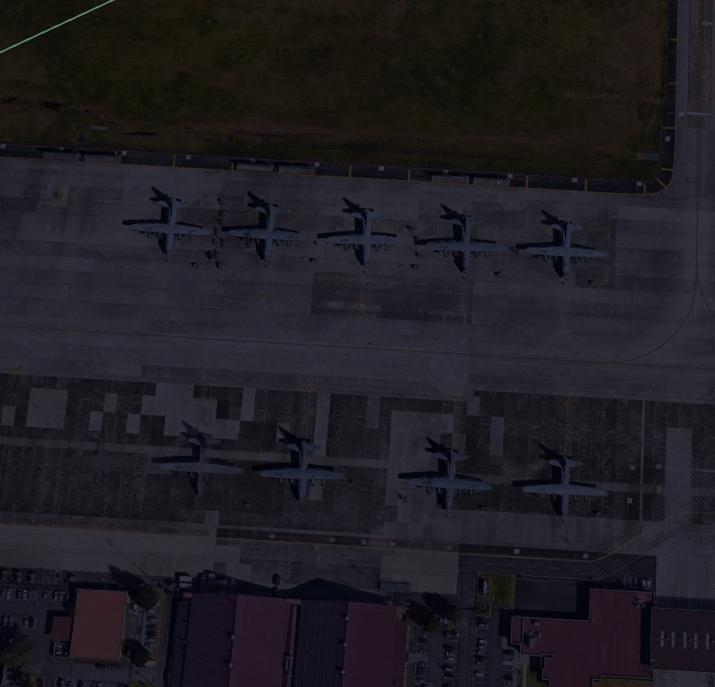A2: (518, 206, 614, 282), (398, 436, 493, 510), (514, 444, 609, 518), (123, 182, 212, 256), (256, 429, 346, 502), (155, 425, 246, 495), (222, 188, 307, 260), (317, 190, 402, 262), (417, 201, 502, 273)
